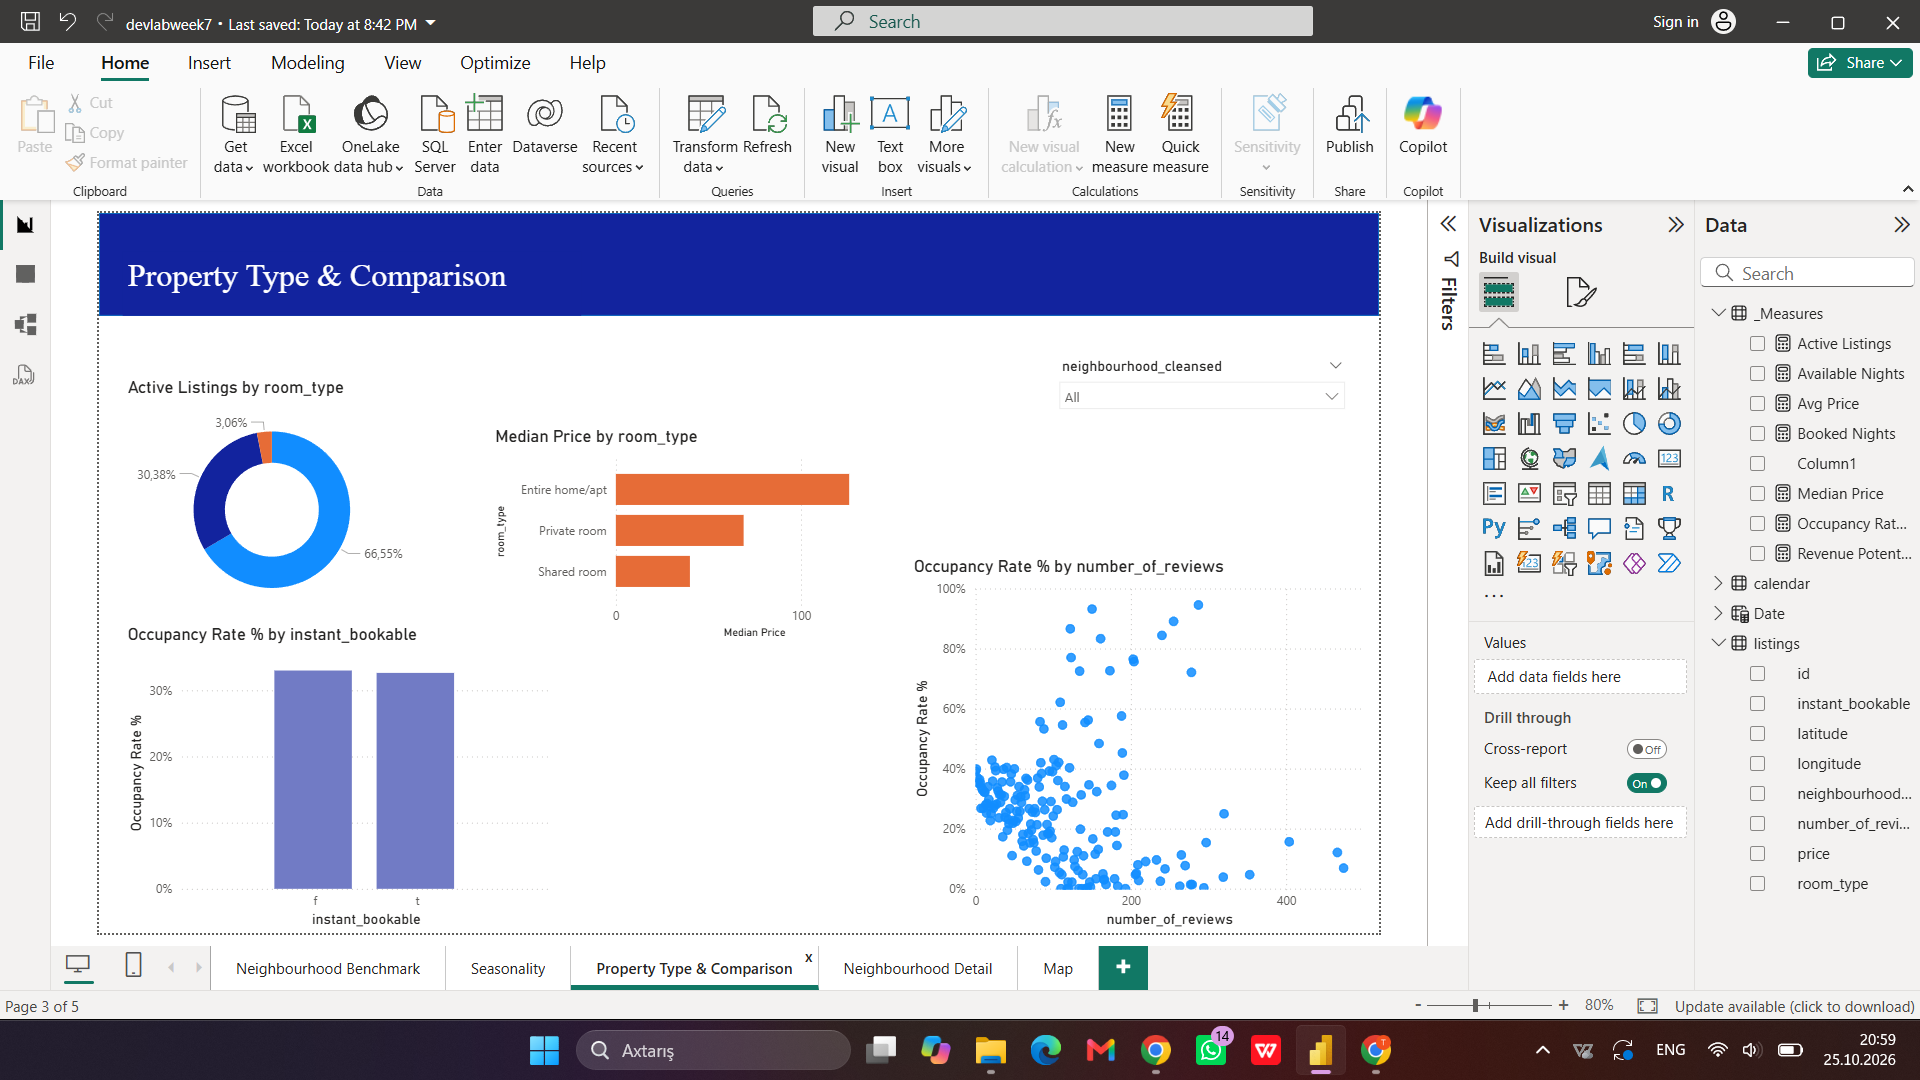

What the dashboard file says about the page in this screenshot:
{"tool":"powerbi","page":{"name":"Property Type & Comparison","canvas":[1280,720],"ordinal":2},"visuals":[{"type":"donutChart","fields":{"Category":["listings.room_type"],"Y":["_Measures.Active Listings"]},"box":[24.3,164.3,298.6,247.1],"z":0},{"type":"clusteredBarChart","fields":{"Category":["listings.room_type"],"Y":["_Measures.Median Price"]},"box":[391.4,212.9,418.6,218.6],"z":1000},{"type":"slicer","fields":{"Values":["listings.neighbourhood_cleansed"]},"box":[950,140,305.7,82.9],"z":2000},{"type":"shape","box":[0,0,1280,102.9],"z":2001},{"type":"textbox","box":[24.3,38.6,458.6,64.3],"z":2002},{"type":"scatterChart","fields":{"X":["listings.number_of_reviews"],"Y":["_Measures.Occupancy Rate %"]},"box":[810,342.9,470,377.1],"z":2003},{"type":"clusteredColumnChart","fields":{"Category":["listings.instant_bookable"],"Y":["_Measures.Occupancy Rate %"]},"box":[24.3,411.4,432.9,308.6],"z":2004}]}

Visuals, with their boxes on the page's 1280x720 design canvas (x1, y1, x2, y2). These are canvas units, not pixel positions in the 1920x1080 screenshot, which may show the page scaled, cropped or inside an application window:
donutChart - listings.room_type x _Measures.Active Listings: [24,164,323,411]
clusteredBarChart - listings.room_type x _Measures.Median Price: [391,213,810,432]
slicer - listings.neighbourhood_cleansed: [950,140,1256,223]
shape: [0,0,1280,103]
textbox: [24,39,483,103]
scatterChart - listings.number_of_reviews x _Measures.Occupancy Rate %: [810,343,1280,720]
clusteredColumnChart - listings.instant_bookable x _Measures.Occupancy Rate %: [24,411,457,720]
